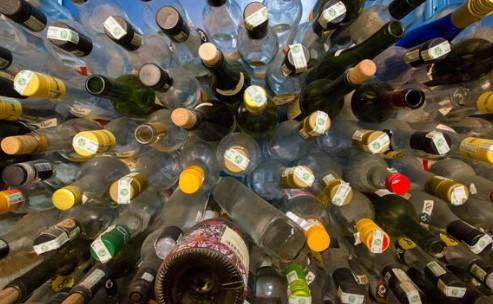glass: (78, 189, 163, 264), (140, 176, 216, 259), (45, 6, 127, 79), (1, 203, 78, 280), (344, 232, 426, 300), (1, 6, 66, 70), (412, 74, 493, 125), (400, 188, 474, 243), (275, 185, 338, 247), (408, 126, 492, 170), (265, 21, 314, 95), (426, 158, 493, 209), (317, 183, 376, 239), (65, 156, 133, 204), (235, 2, 280, 74), (335, 1, 397, 52), (314, 244, 366, 302), (167, 137, 223, 190), (436, 238, 493, 290), (49, 196, 114, 241), (352, 82, 424, 122), (135, 107, 197, 153), (292, 10, 345, 63), (169, 100, 237, 141), (121, 33, 179, 80), (342, 150, 402, 195), (125, 144, 181, 192), (149, 65, 206, 112), (287, 148, 344, 194), (44, 117, 109, 157), (201, 0, 244, 60), (232, 86, 279, 138), (0, 177, 64, 215), (97, 115, 150, 158), (5, 93, 76, 125), (265, 117, 315, 160), (451, 22, 493, 71), (217, 131, 262, 175), (248, 154, 292, 199), (63, 97, 123, 128), (311, 115, 357, 154), (263, 1, 303, 45), (298, 257, 335, 302), (247, 263, 288, 303), (3, 159, 55, 188), (40, 158, 84, 191), (350, 128, 393, 156)
